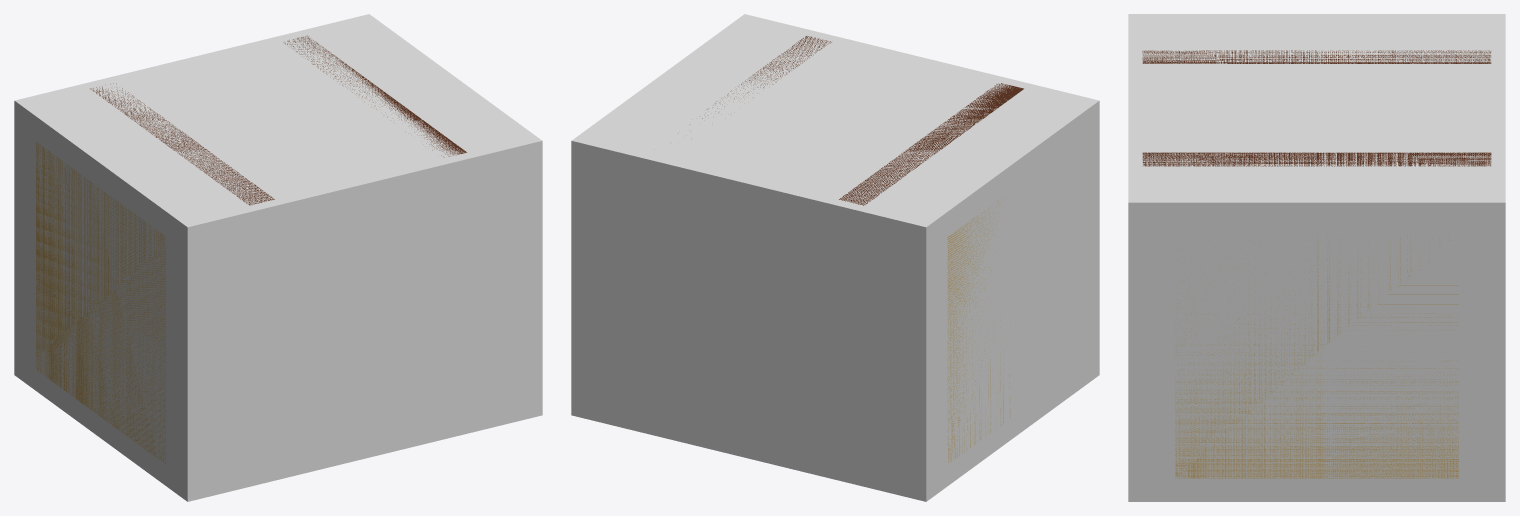
The model's file is hay_bale.glb.
3 renders of one model, left to right at view 1: azimuth 30°, elevation 25°; view 2: azimuth 150°, elevation 25°; view 3: azimuth 270°, elevation 25°, orthographic. The views are drawn at different scales.
Parts seen in each view (by area): view 1: prop_hay_bale_col, prop_hay_bale_lod0; view 2: prop_hay_bale_col, prop_hay_bale_lod0; view 3: prop_hay_bale_col, prop_hay_bale_lod0.
Boxes of the visible parts, left/top/right/bottom form: prop_hay_bale_col: left=14, top=14, right=542, bottom=501; prop_hay_bale_lod0: left=36, top=35, right=466, bottom=463; prop_hay_bale_col: left=571, top=14, right=1099, bottom=501; prop_hay_bale_lod0: left=702, top=36, right=1023, bottom=462; prop_hay_bale_col: left=1128, top=14, right=1505, bottom=501; prop_hay_bale_lod0: left=1142, top=50, right=1491, bottom=478.
Size of the model in its own units: 0.96 by 0.71 by 0.8116.
